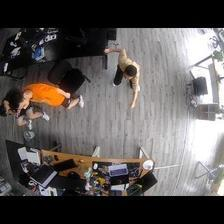normal: (108, 45, 141, 106), (1, 93, 48, 131), (16, 84, 83, 110)
